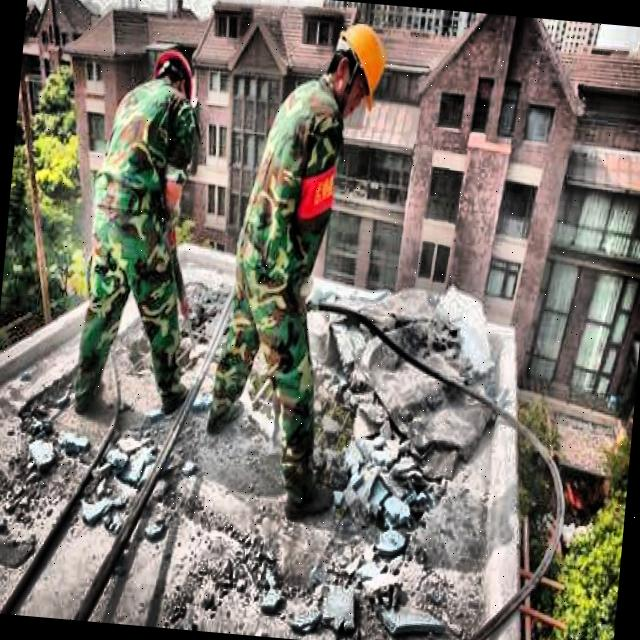helmet: (323, 11, 391, 116), (143, 40, 200, 104)
